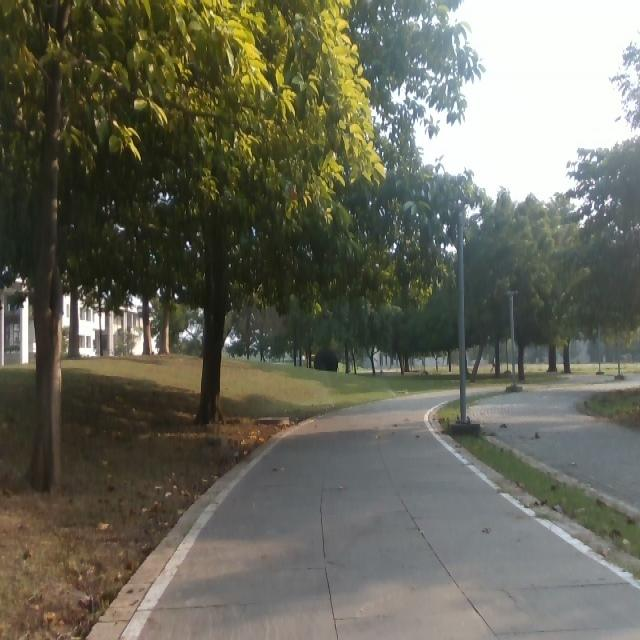lane: (141, 389, 639, 639)
